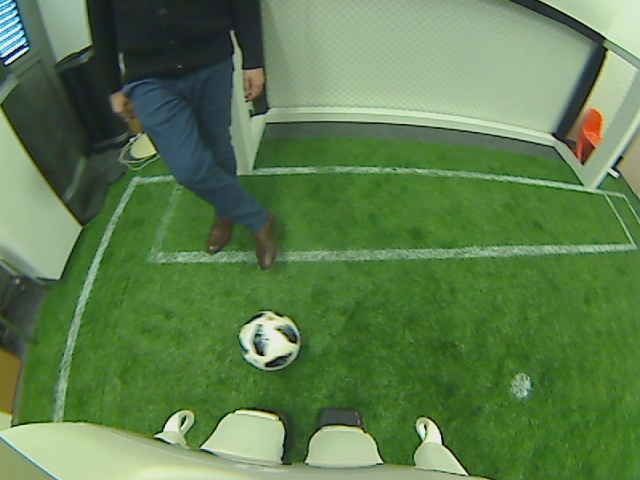ball: (239, 309, 302, 370)
